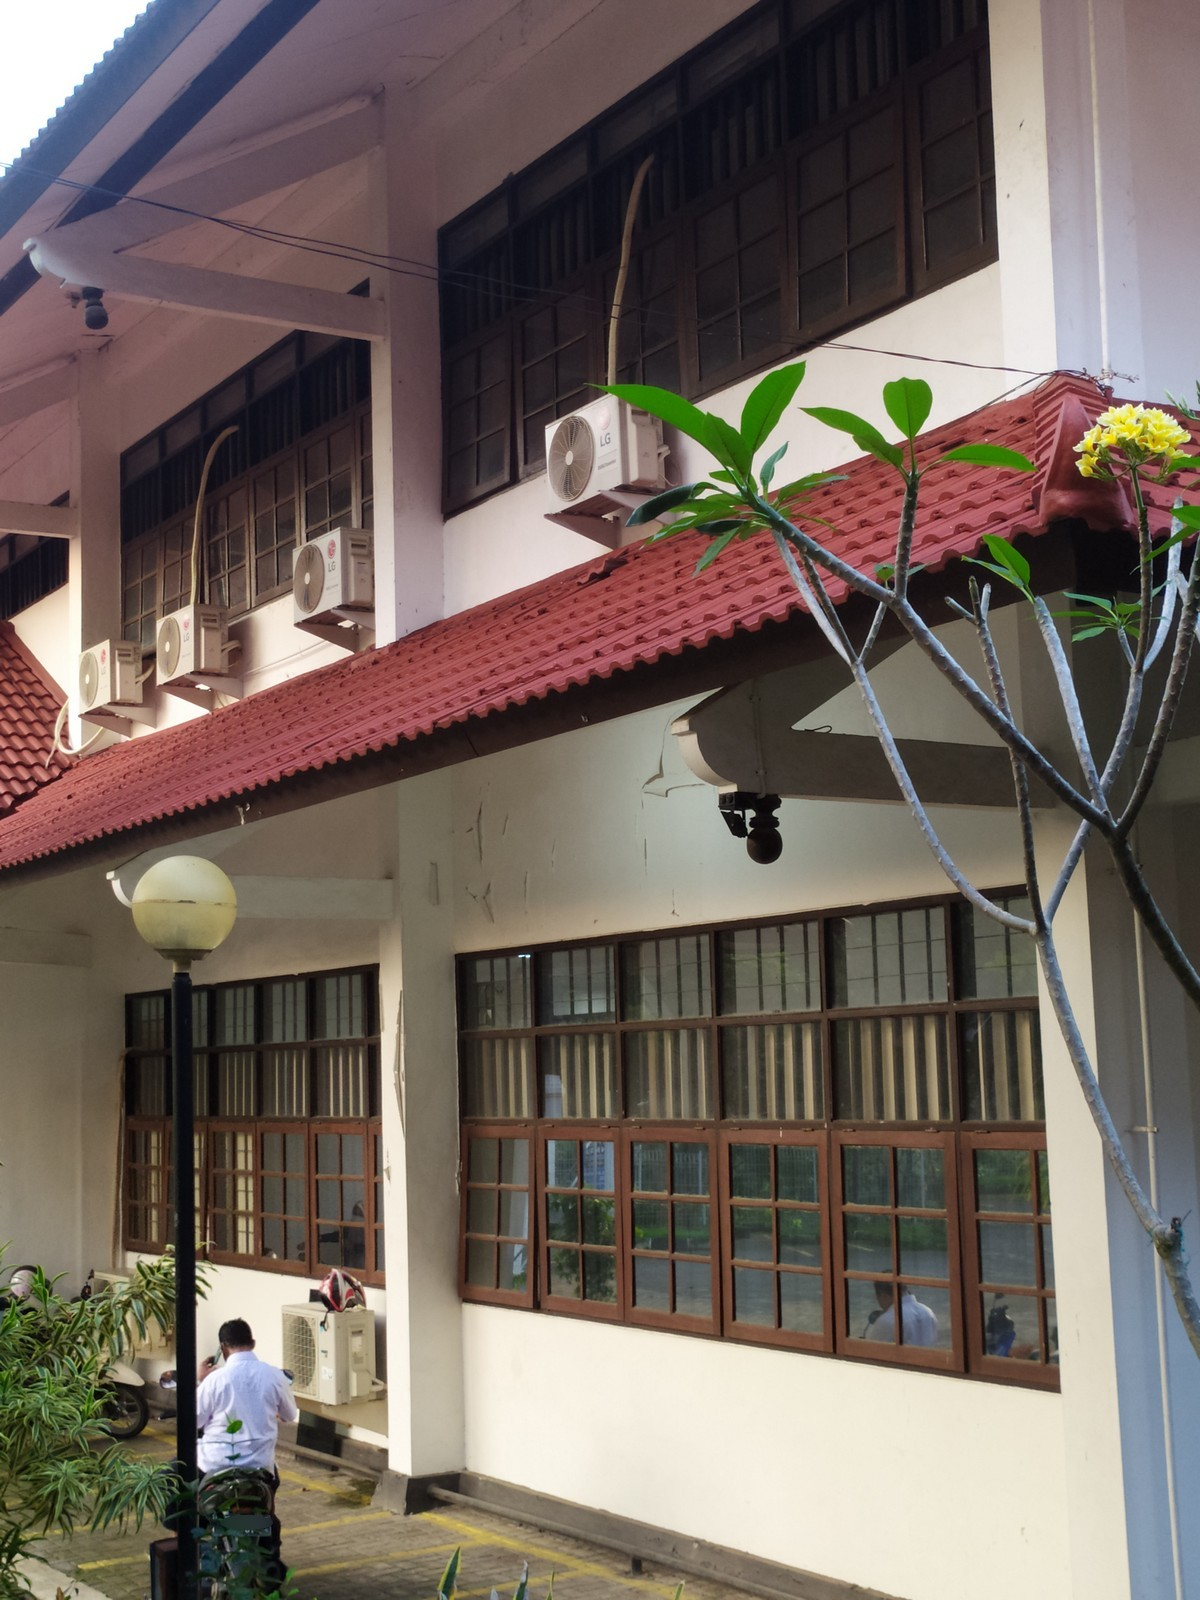concrete beam: (127, 254, 395, 353)
concrete column: (361, 797, 480, 1507), (354, 94, 453, 655), (61, 370, 125, 740)
